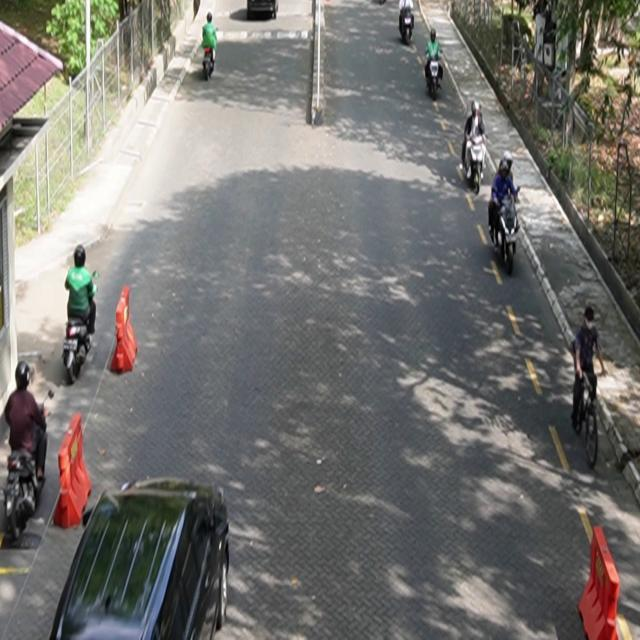car: (50, 477, 231, 640)
